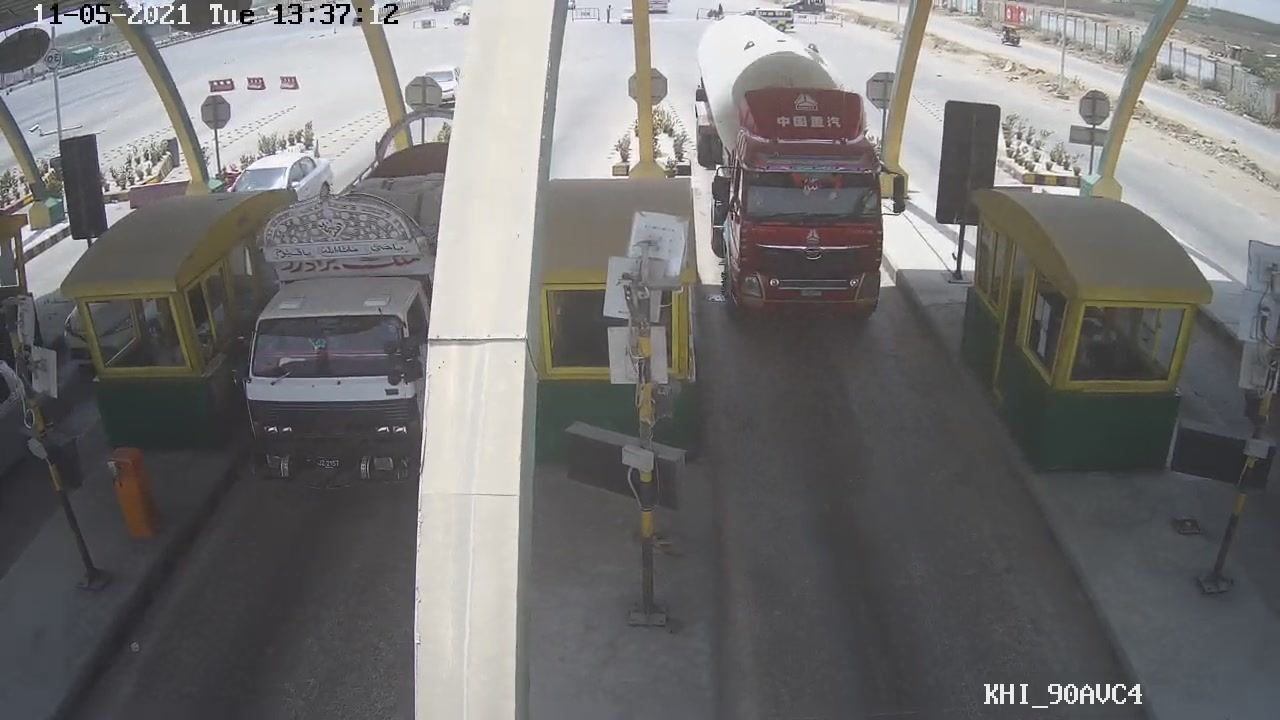F6: (695, 45, 904, 326)
